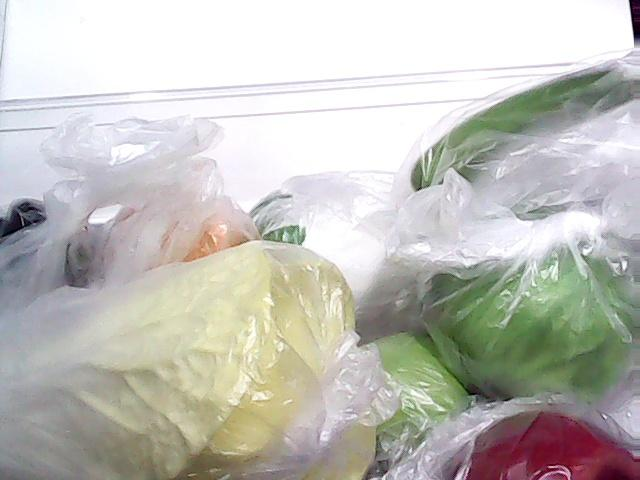apple: (428, 399, 640, 480), (364, 332, 464, 450)
cabbage: (428, 195, 640, 419)
grape: (0, 183, 91, 277)
lemon: (91, 174, 261, 266)
napa cabbage: (0, 234, 366, 480)
pepper: (400, 70, 636, 198)
radish: (248, 194, 417, 310)
